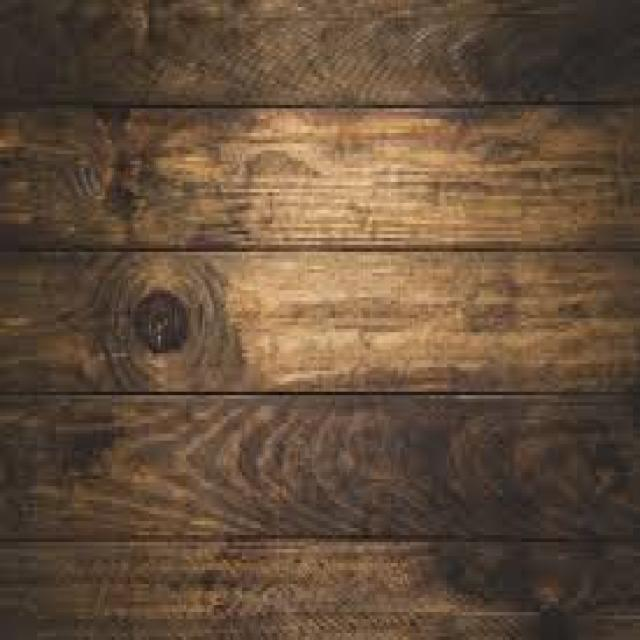have-wooden-eyes: (137, 291, 186, 350)
perfect-wooden-plate: (0, 394, 640, 543), (0, 109, 640, 249), (0, 1, 640, 107)
